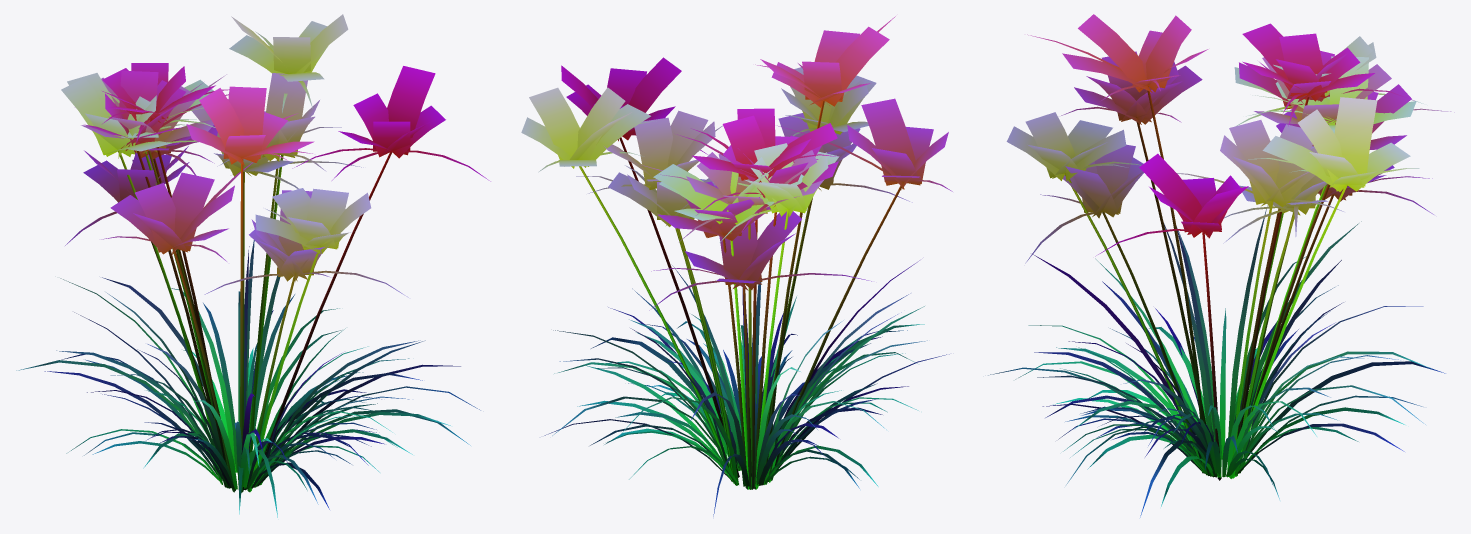
Rendered from Grass_Sedge_A_HD.fbx.
3 views of the same model, side by side, from view 1: azimuth 30°, elevation 25°; view 2: azimuth 150°, elevation 25°; view 3: azimuth 270°, elevation 25° (orthographic).
Visible parts, largest first — view 1: Grass_Sedge_A_HD_LOD0; view 2: Grass_Sedge_A_HD_LOD0; view 3: Grass_Sedge_A_HD_LOD0.
Boxes of the visible parts, bbox=[...] form: Grass_Sedge_A_HD_LOD0: bbox=[16, 14, 490, 517]; Grass_Sedge_A_HD_LOD0: bbox=[521, 16, 952, 516]; Grass_Sedge_A_HD_LOD0: bbox=[988, 14, 1454, 517].
Size of what is drawn, in the model's own units: 0.5399 by 0.5579 by 0.5631.
